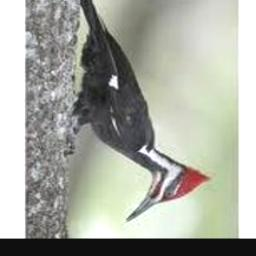Woodpecker: (72, 0, 212, 222)
